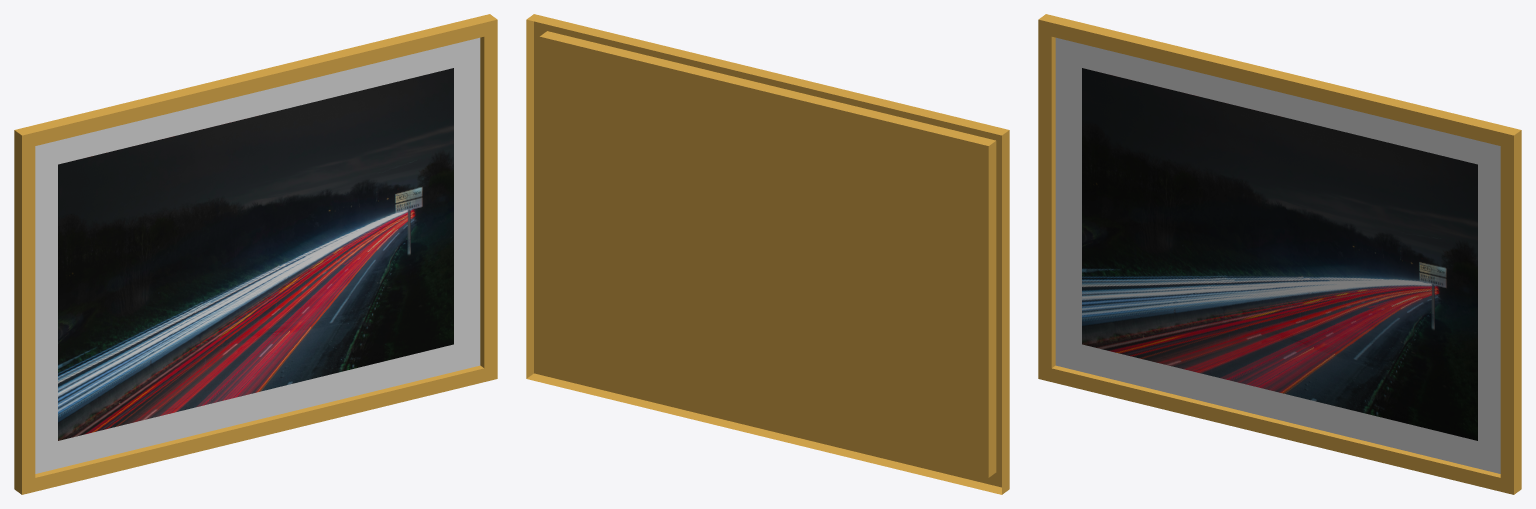
File: road.fbx
3 renders of one model, left to right at view 1: azimuth 30°, elevation 25°; view 2: azimuth 150°, elevation 25°; view 3: azimuth 330°, elevation 25°, orthographic.
Visible parts, largest first — view 1: Image, Background, Frame; view 2: Frame; view 3: Image, Background, Frame.
Part boxes in pixels (bbox=[...]): Image: bbox=[58, 68, 453, 440]; Background: bbox=[35, 37, 480, 473]; Frame: bbox=[14, 14, 497, 494]; Frame: bbox=[526, 14, 1009, 494]; Image: bbox=[1082, 68, 1477, 440]; Background: bbox=[1055, 37, 1500, 473]; Frame: bbox=[1038, 14, 1521, 494].
Bounding box in the file's own units: 360 × 260 × 10.
